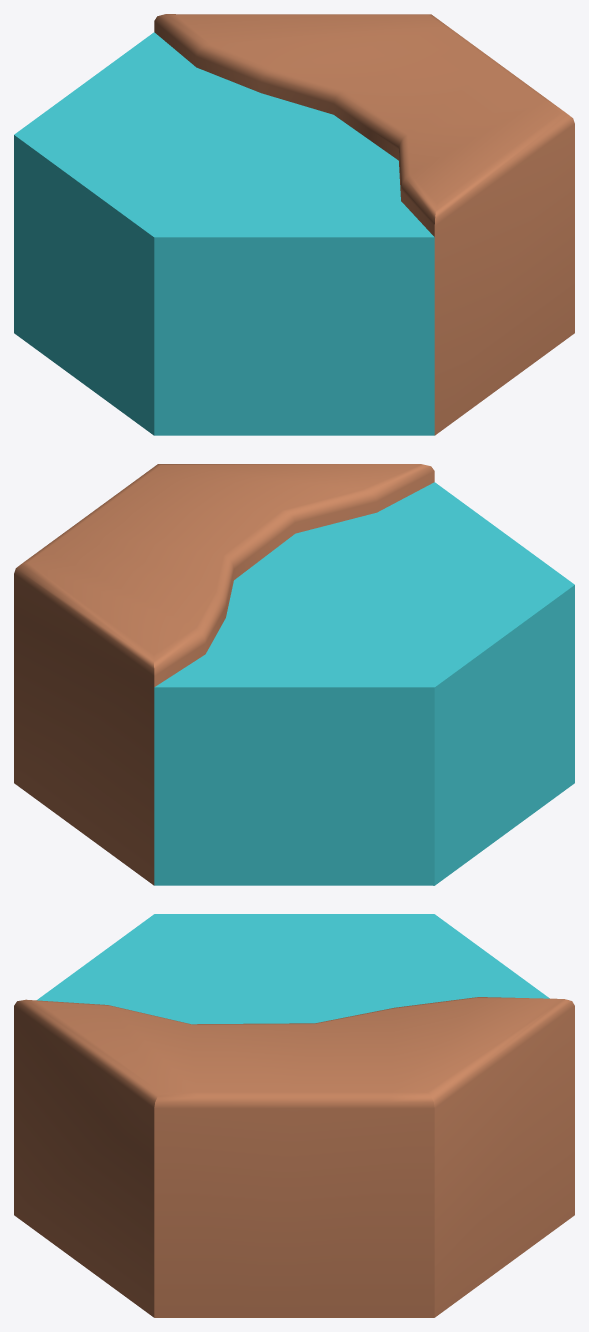
File: kaykit-hex-rock-waterc.glb
The picture shows the model from 3 angles, top to bottom: view 1: azimuth 30°, elevation 25°; view 2: azimuth 150°, elevation 25°; view 3: azimuth 270°, elevation 25°; orthographic projection.
Visible parts, largest first — view 1: hex_rock_waterC; view 2: hex_rock_waterC; view 3: hex_rock_waterC.
Boxes of the visible parts, bbox=[...] form: hex_rock_waterC: bbox=[14, 14, 574, 435]; hex_rock_waterC: bbox=[14, 464, 574, 885]; hex_rock_waterC: bbox=[14, 914, 574, 1317].
Bounding box in the file's own units: 2 × 1 × 2.31.
